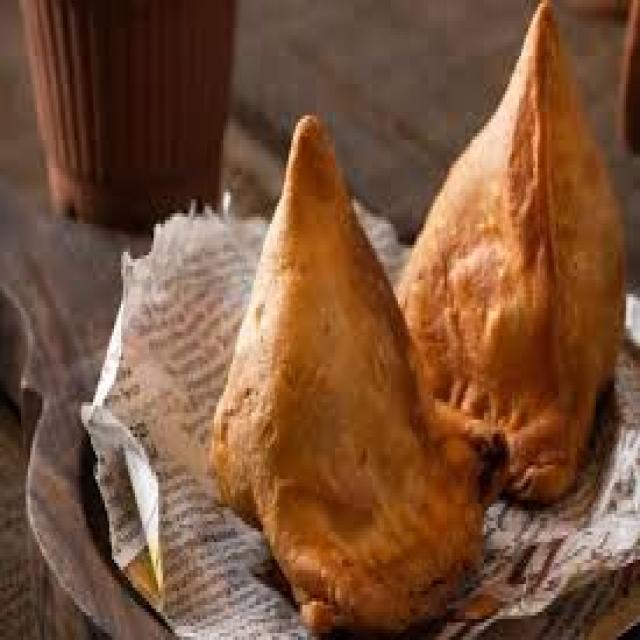SAMOSA: (209, 115, 500, 630), (398, 0, 621, 500)
